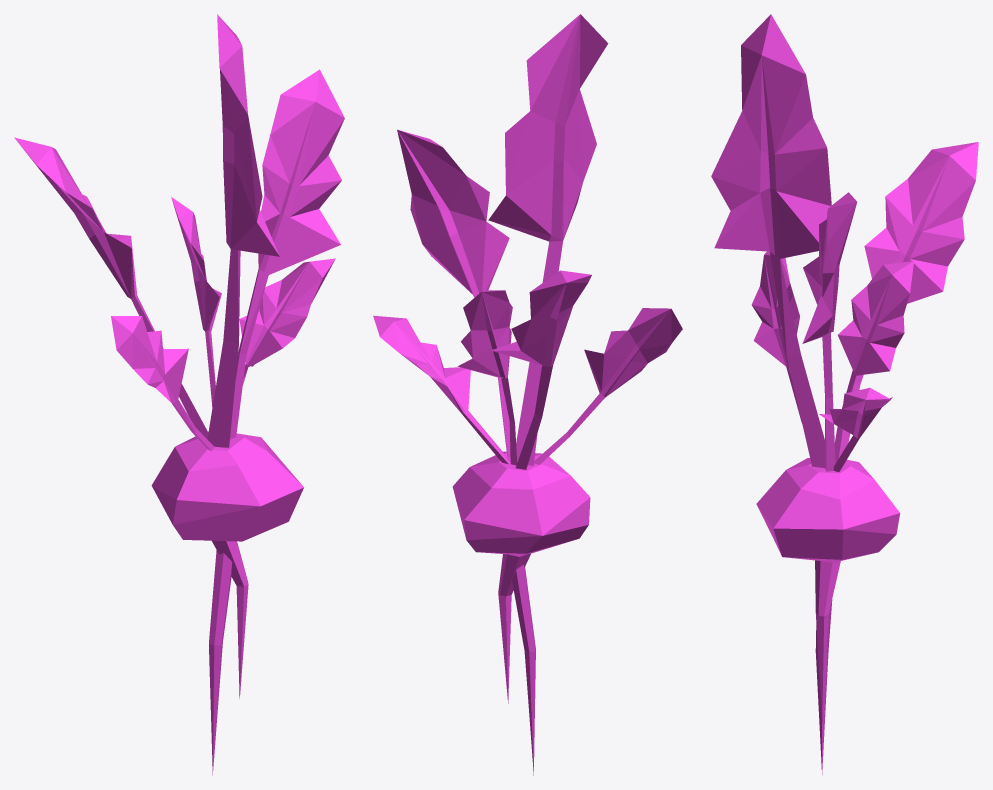
Rendered from SM_Beetroot_Plant_Ripe_Root_B.fbx.
3 renders of one model, left to right at view 1: azimuth 30°, elevation 25°; view 2: azimuth 150°, elevation 25°; view 3: azimuth 270°, elevation 25°, orthographic. The views are drawn at different scales.
Parts seen in each view (by area): view 1: SM_Beetroot_Plant_Ripe_Root_B; view 2: SM_Beetroot_Plant_Ripe_Root_B; view 3: SM_Beetroot_Plant_Ripe_Root_B.
Part boxes in pixels (x1,y1,x2,y2): SM_Beetroot_Plant_Ripe_Root_B: (14,14,344,775); SM_Beetroot_Plant_Ripe_Root_B: (373,14,682,775); SM_Beetroot_Plant_Ripe_Root_B: (711,14,978,774).
Size of the model in its own units: 0.4711 by 1.3 by 0.4196.
